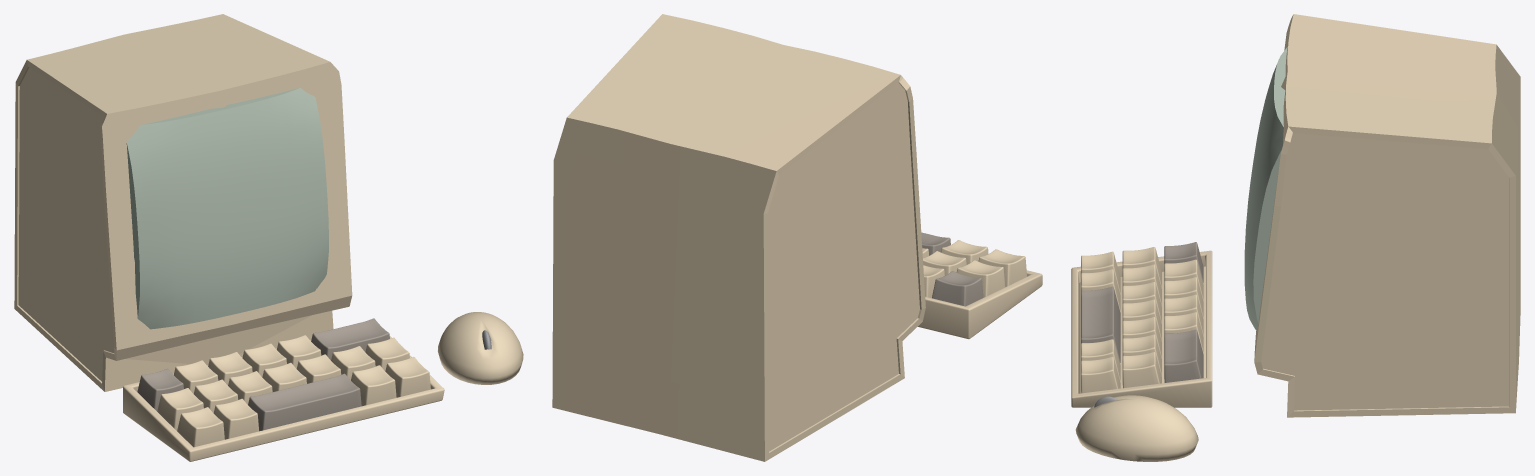
The model's file is mouse colour.fbx.
3 views of the same model, side by side, from view 1: azimuth 30°, elevation 25°; view 2: azimuth 150°, elevation 25°; view 3: azimuth 270°, elevation 25° (orthographic). The views are drawn at different scales.
Visible parts, largest first — view 1: Cube, Cube.001, Plane.001, Plane, Sphere; view 2: Cube, Plane.001, Plane; view 3: Cube, Plane.001, Sphere, Cube.001, Plane.
Boxes of the visible parts, left/top/right/bottom form: Cube: left=14, top=14, right=352, bottom=391; Cube.001: left=126, top=88, right=328, bottom=329; Plane.001: left=137, top=318, right=430, bottom=447; Plane: left=123, top=336, right=444, bottom=461; Sphere: left=438, top=312, right=523, bottom=384; Cube: left=552, top=14, right=925, bottom=461; Plane.001: left=921, top=232, right=1026, bottom=306; Plane: left=917, top=270, right=1042, bottom=339; Cube: left=1254, top=14, right=1520, bottom=417; Plane.001: left=1081, top=242, right=1203, bottom=393; Sphere: left=1075, top=395, right=1198, bottom=461; Cube.001: left=1244, top=47, right=1287, bottom=330; Plane: left=1071, top=250, right=1212, bottom=407.
Bounding box in the file's own units: 579 × 429 × 598.
